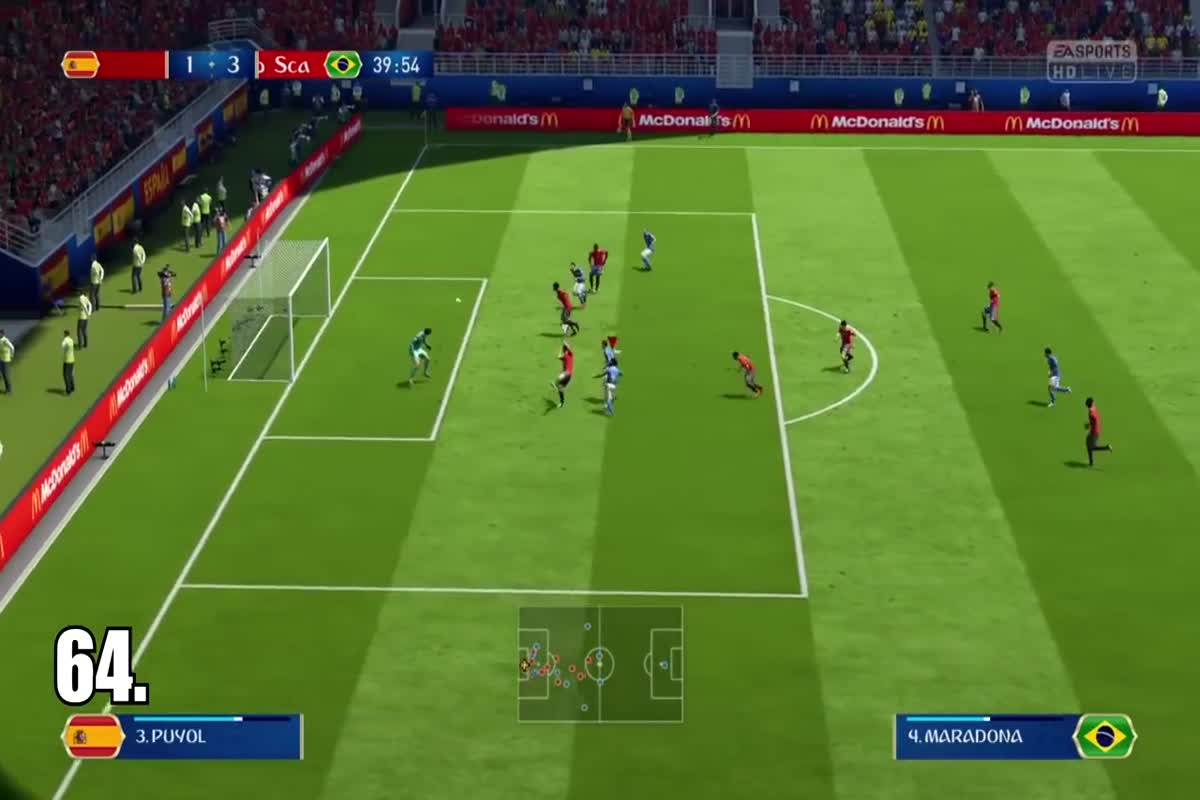ball: (448, 294, 469, 311)
